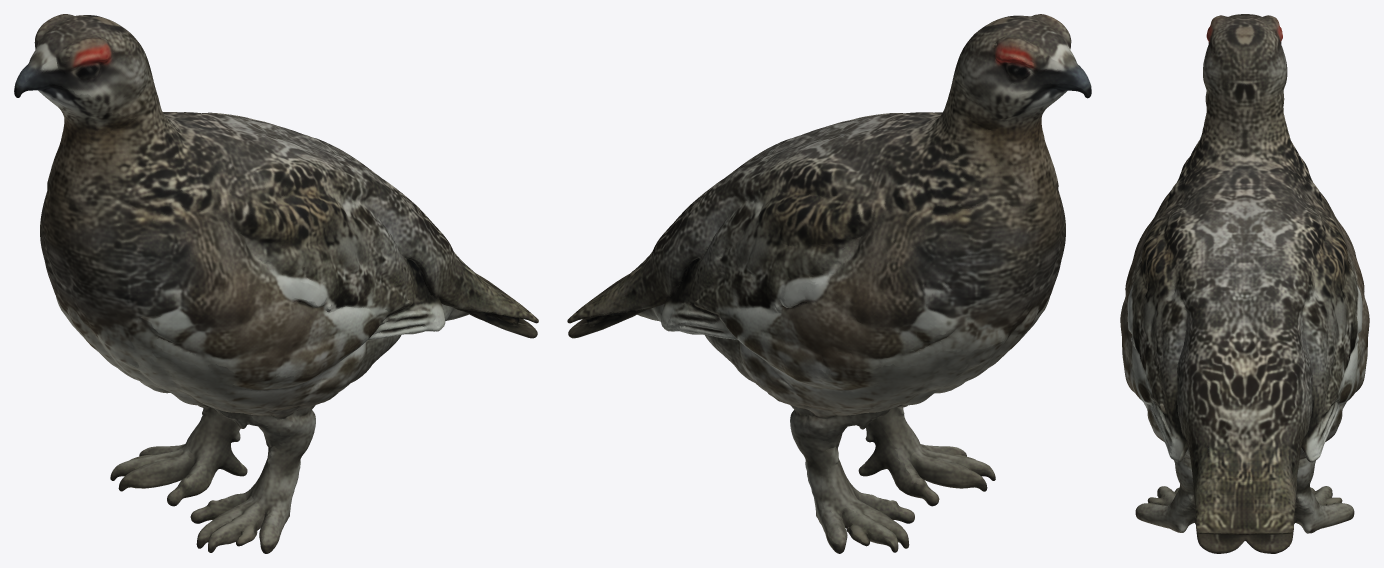
Rendered from task-4900730.glb.
3 views of the same model, side by side, from view 1: azimuth 30°, elevation 25°; view 2: azimuth 150°, elevation 25°; view 3: azimuth 270°, elevation 25° (orthographic). The views are drawn at different scales.
Parts seen in each view (by area): view 1: world; view 2: world; view 3: world.
Boxes of the visible parts, x1,y1,x2,y2 form: world: (14, 14, 538, 553); world: (567, 14, 1091, 553); world: (1120, 14, 1369, 553).
Size of the model in its own units: 0.35 by 0.3426 by 0.1726.
Materials: 1 (1 with a texture image).
